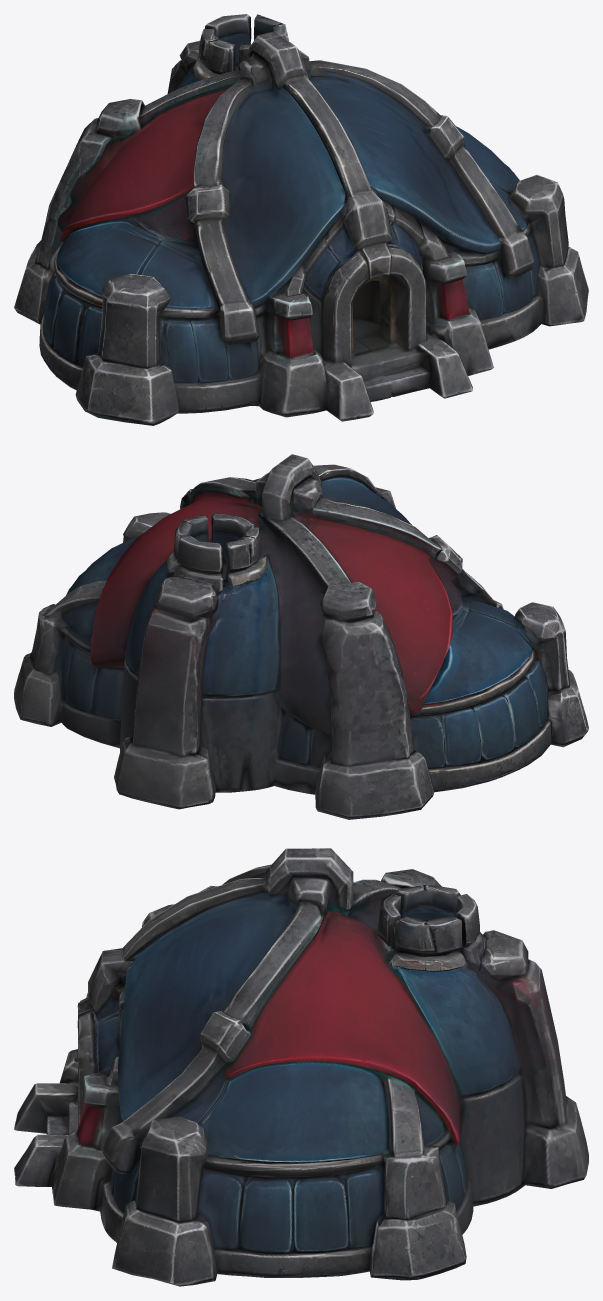
File: source_2.glb
3 views of the same model, one above another, from view 1: azimuth 30°, elevation 25°; view 2: azimuth 150°, elevation 25°; view 3: azimuth 270°, elevation 25° (orthographic). The views are drawn at different scales.
Parts seen in each view (by area): view 1: tripo_node_50a6c67d-98eb-4fbc-a3a0-653d7cddbc1e; view 2: tripo_node_50a6c67d-98eb-4fbc-a3a0-653d7cddbc1e; view 3: tripo_node_50a6c67d-98eb-4fbc-a3a0-653d7cddbc1e.
Part boxes in pixels (bbox=[...]): tripo_node_50a6c67d-98eb-4fbc-a3a0-653d7cddbc1e: bbox=[14, 14, 588, 425]; tripo_node_50a6c67d-98eb-4fbc-a3a0-653d7cddbc1e: bbox=[14, 454, 588, 819]; tripo_node_50a6c67d-98eb-4fbc-a3a0-653d7cddbc1e: bbox=[14, 848, 588, 1286].
Bounding box in the file's own units: 0.9806 × 0.5042 × 0.8782.
Materials: 1 (1 with a texture image).
